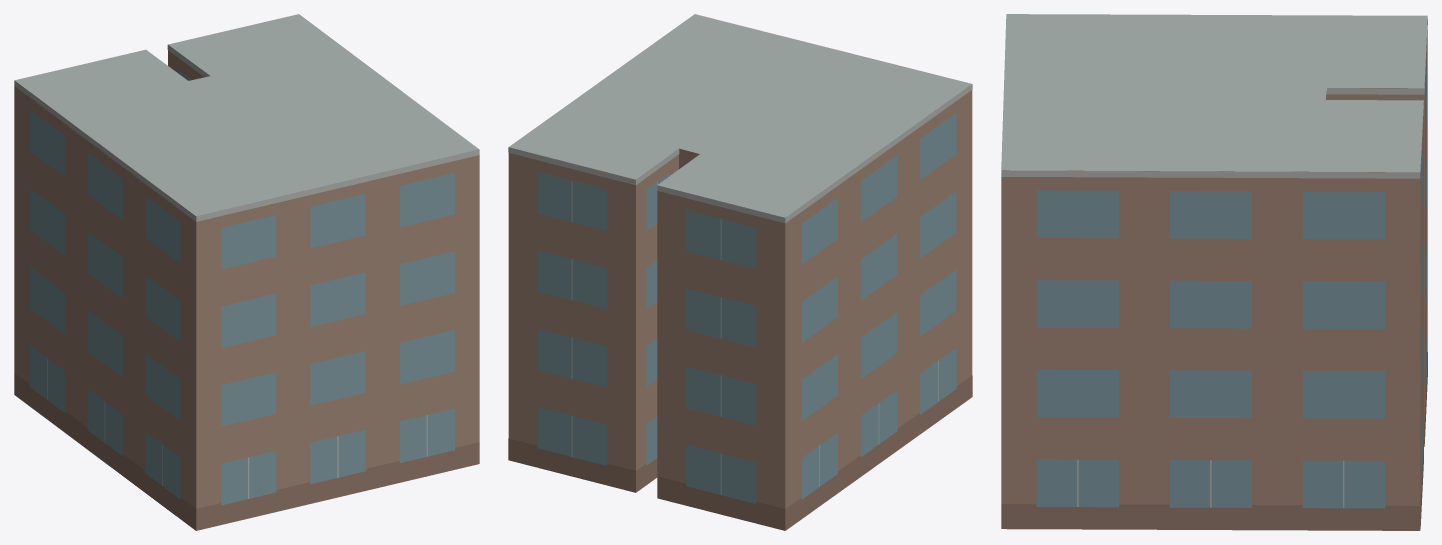
File: survey-upis-32834491.glb
3 views of the same model, side by side, from view 1: azimuth 30°, elevation 25°; view 2: azimuth 150°, elevation 25°; view 3: azimuth 270°, elevation 25° (orthographic). The views are drawn at different scales.
Visible parts, largest first — view 1: survey-upis-32834491.tmp; view 2: survey-upis-32834491.tmp; view 3: survey-upis-32834491.tmp.
Part boxes in pixels (x1,y1,x2,y2): survey-upis-32834491.tmp: (14,14,479,530); survey-upis-32834491.tmp: (508,14,972,530); survey-upis-32834491.tmp: (1001,14,1427,530).
Bounding box in the file's own units: 12.93 × 13.65 × 14.73.
